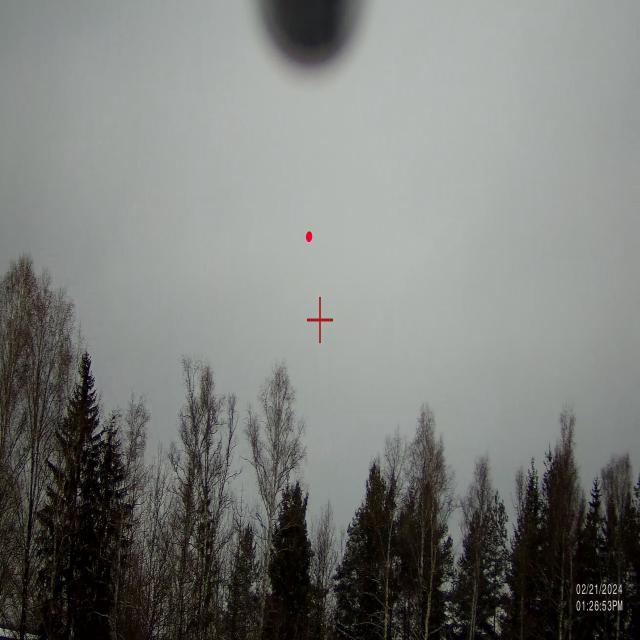entire: (300, 228, 318, 250)
